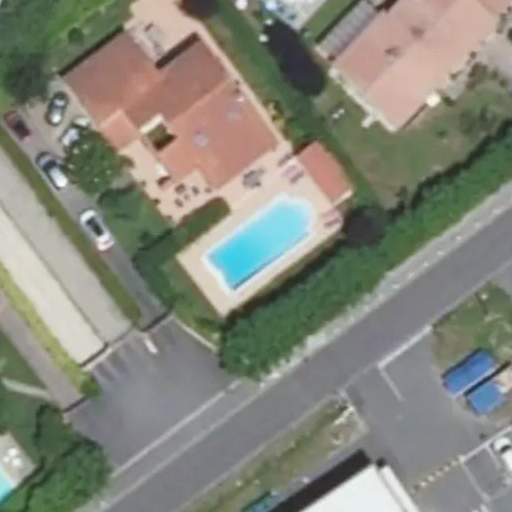pool: (190, 188, 316, 300)
